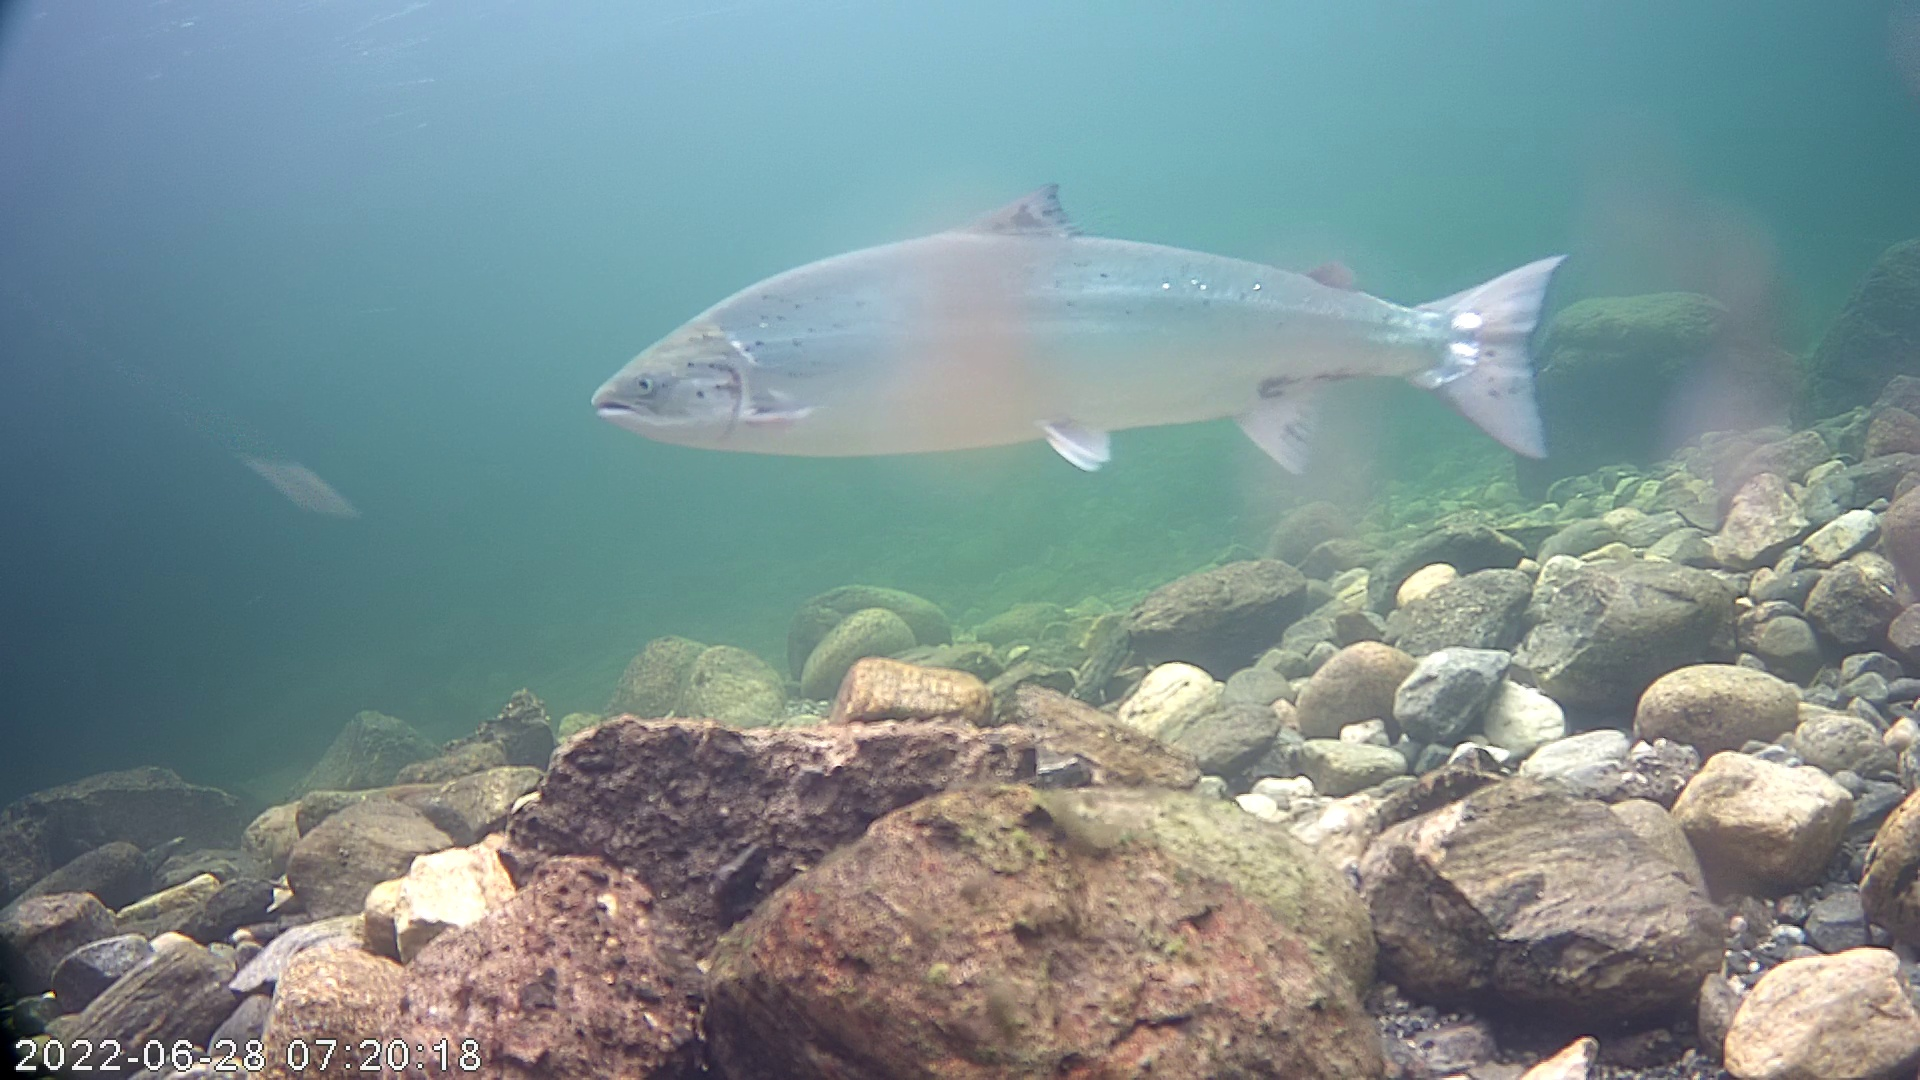salmon: (578, 112, 1598, 555)
